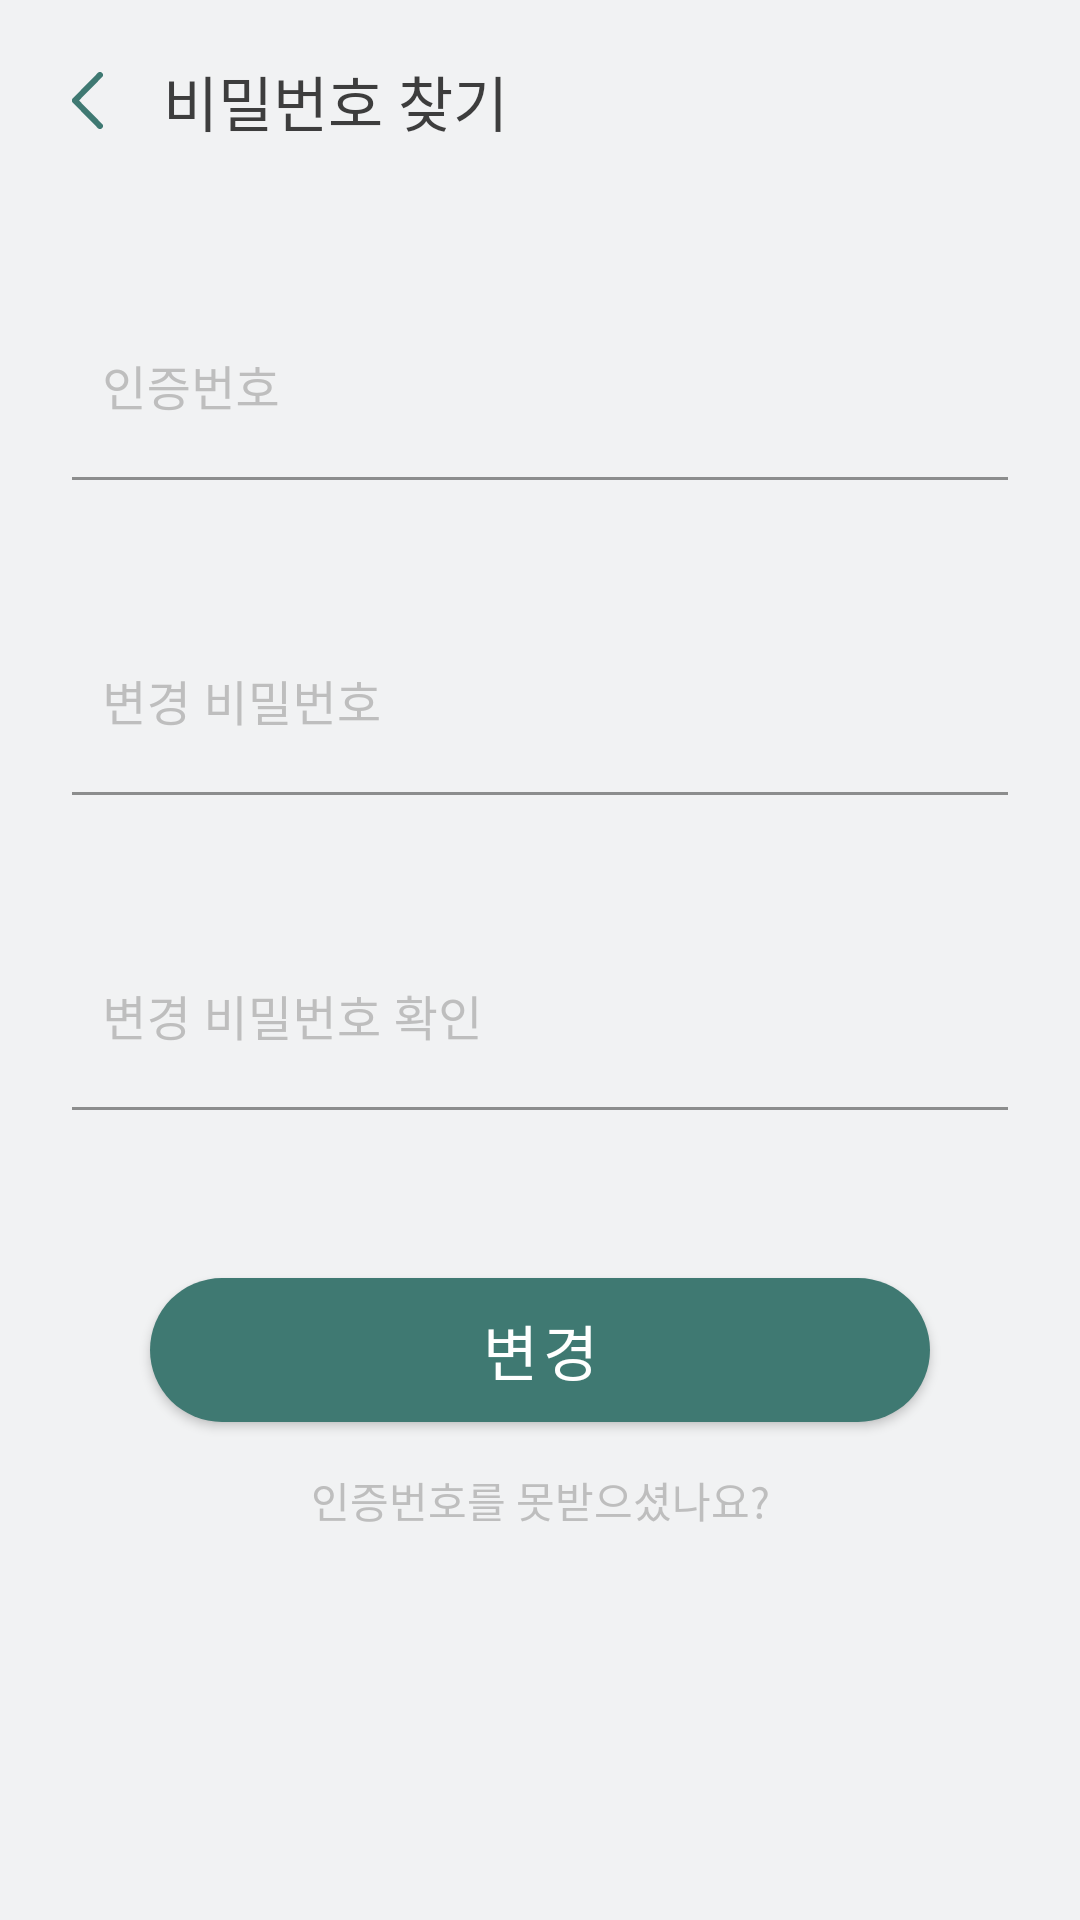

Named icons in this screenshot (1080 × 1920) and their bounding boxes, bbox=(x1, y1, x2, y2):
back: bbox=(72, 72, 103, 129)
